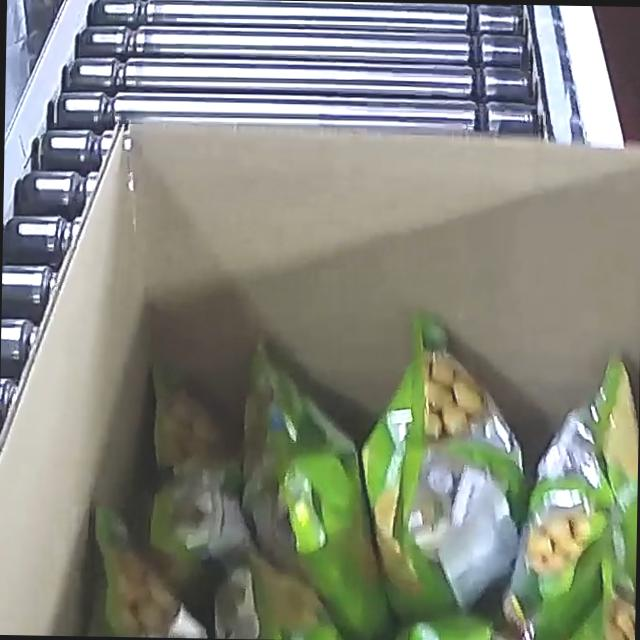yogurt: (62, 305, 640, 640)
